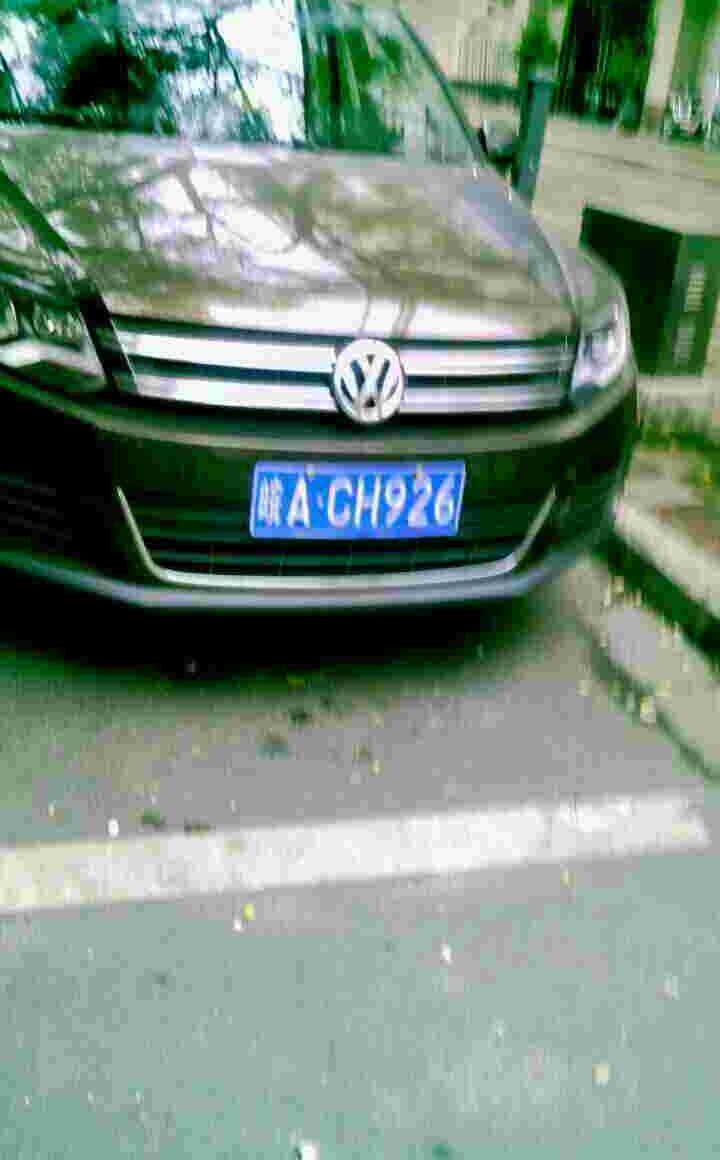plate: (254, 461, 473, 542)
